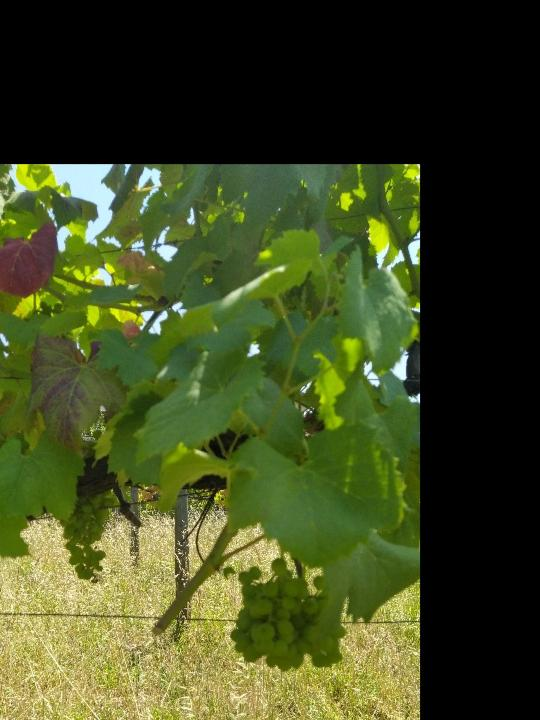grape: (227, 558, 348, 674), (59, 490, 118, 592)
